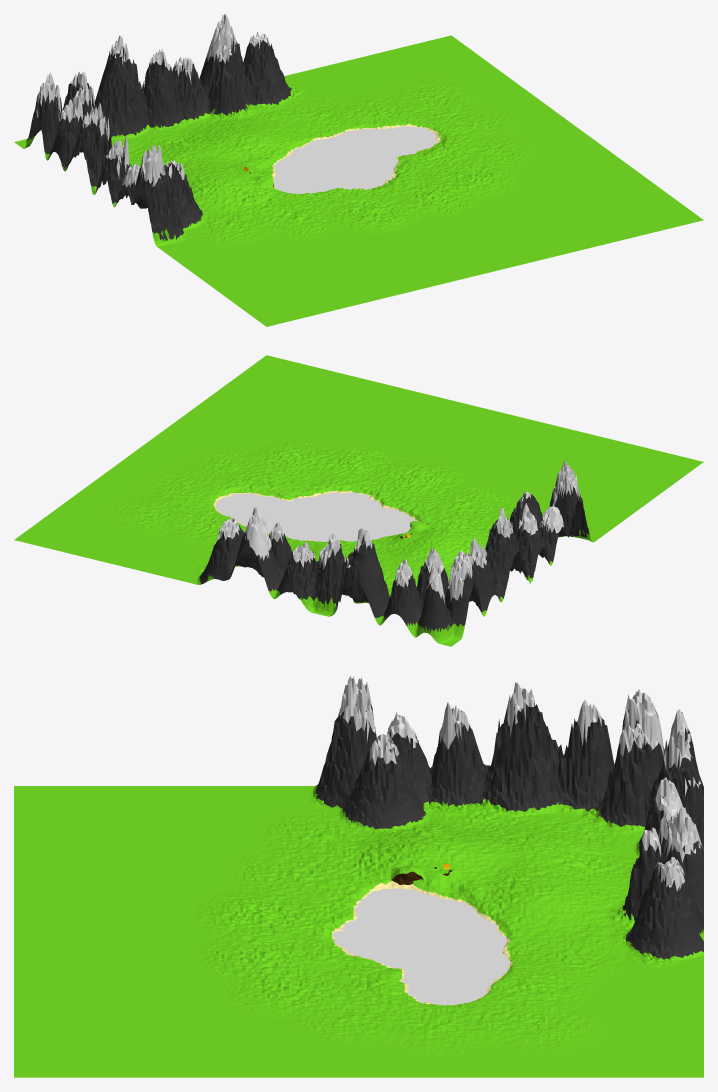
File: Bellifer Fields Terrain 2021-01-29.fbx
3 views of the same model, one above another, from view 1: azimuth 30°, elevation 25°; view 2: azimuth 150°, elevation 25°; view 3: azimuth 270°, elevation 25° (orthographic). The views are drawn at different scales.
Visible parts, largest first — view 1: Terrain, Lake Pinnigon; view 2: Terrain, Lake Pinnigon; view 3: Terrain, Lake Pinnigon.
Boxes of the visible parts, x1,y1,x2,y2 form: Terrain: (14, 14, 703, 326); Lake Pinnigon: (273, 126, 439, 193); Terrain: (14, 355, 703, 646); Lake Pinnigon: (215, 492, 415, 542); Terrain: (14, 675, 703, 1077); Lake Pinnigon: (333, 888, 510, 1005).
Bounding box in the file's own units: 6400 × 1434 × 6400.
